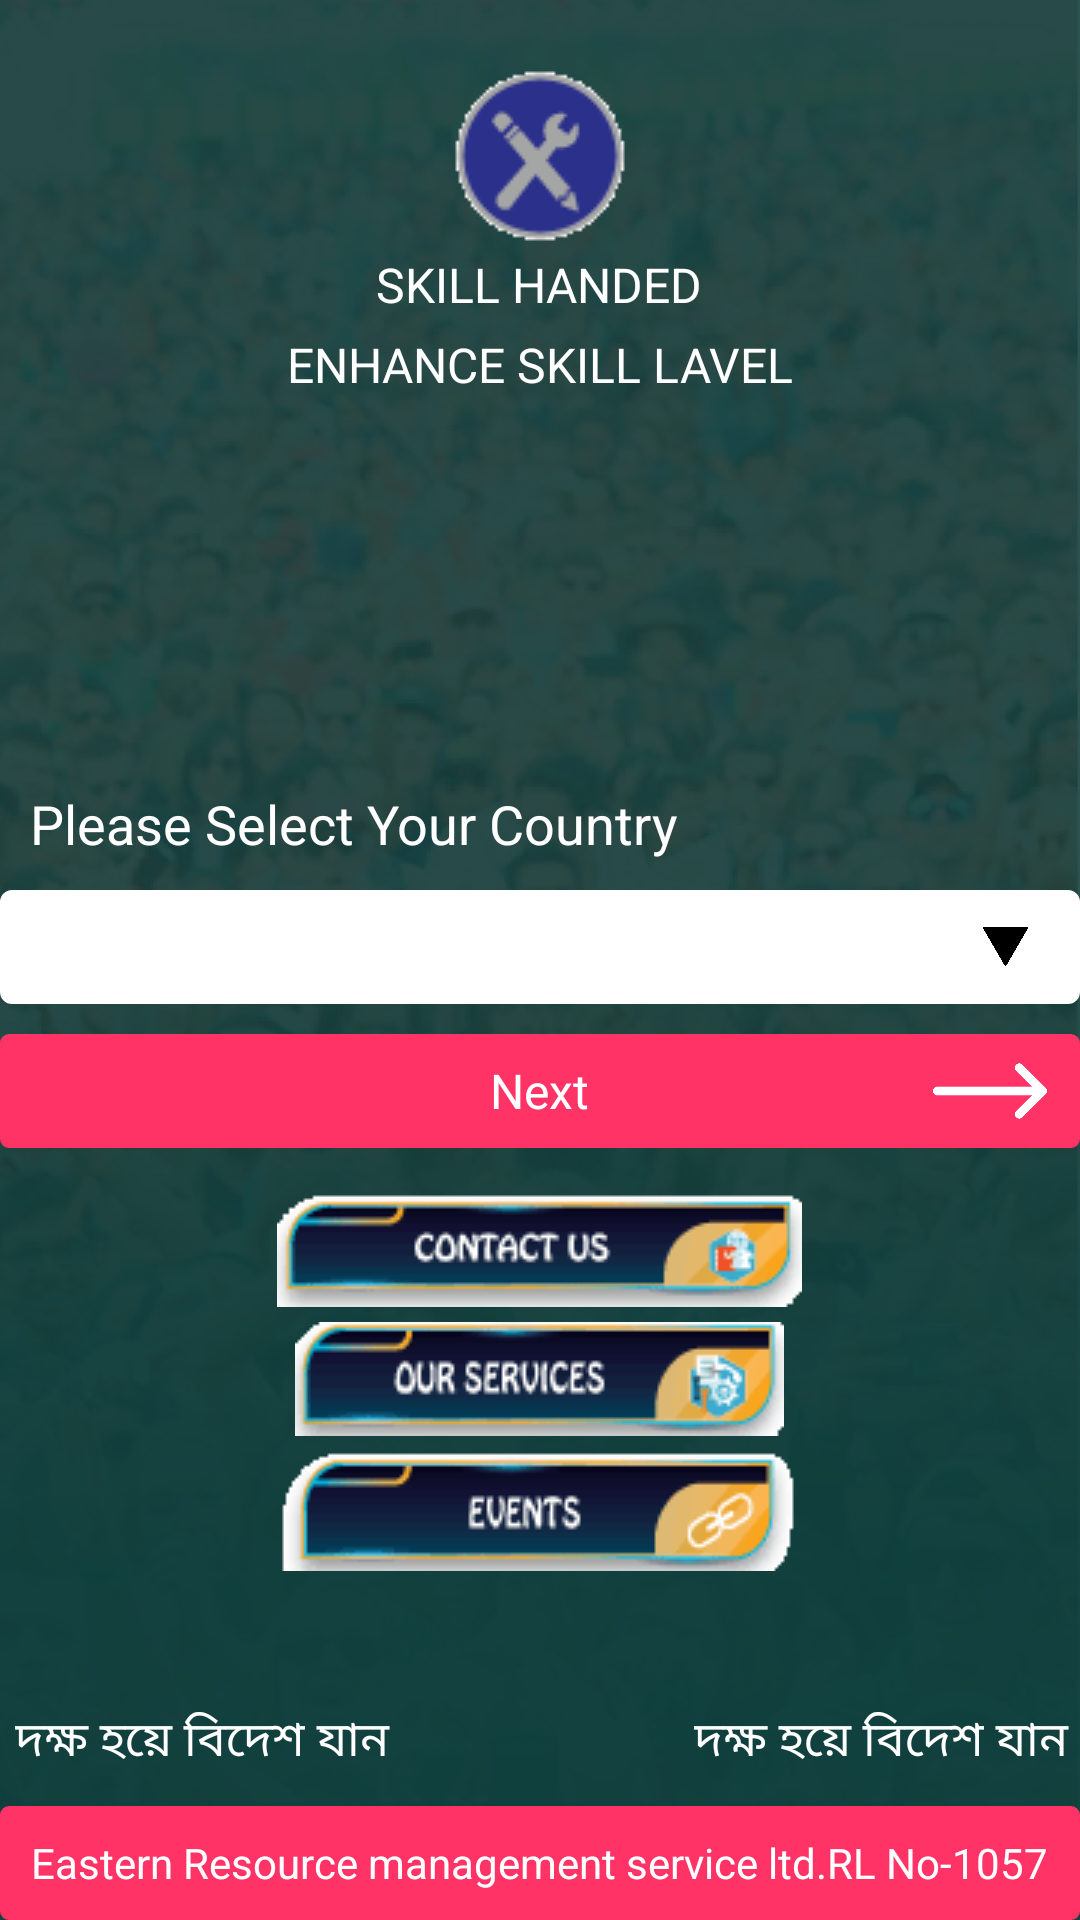

Where to tap for icons on this 1080*1920 app screen, as point (x, y):
arrow right: point (990, 1091)
down arrow: point (1005, 946)
